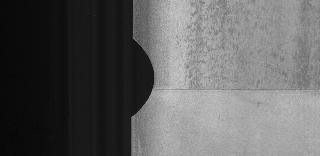welding line: (148, 82, 320, 98)
